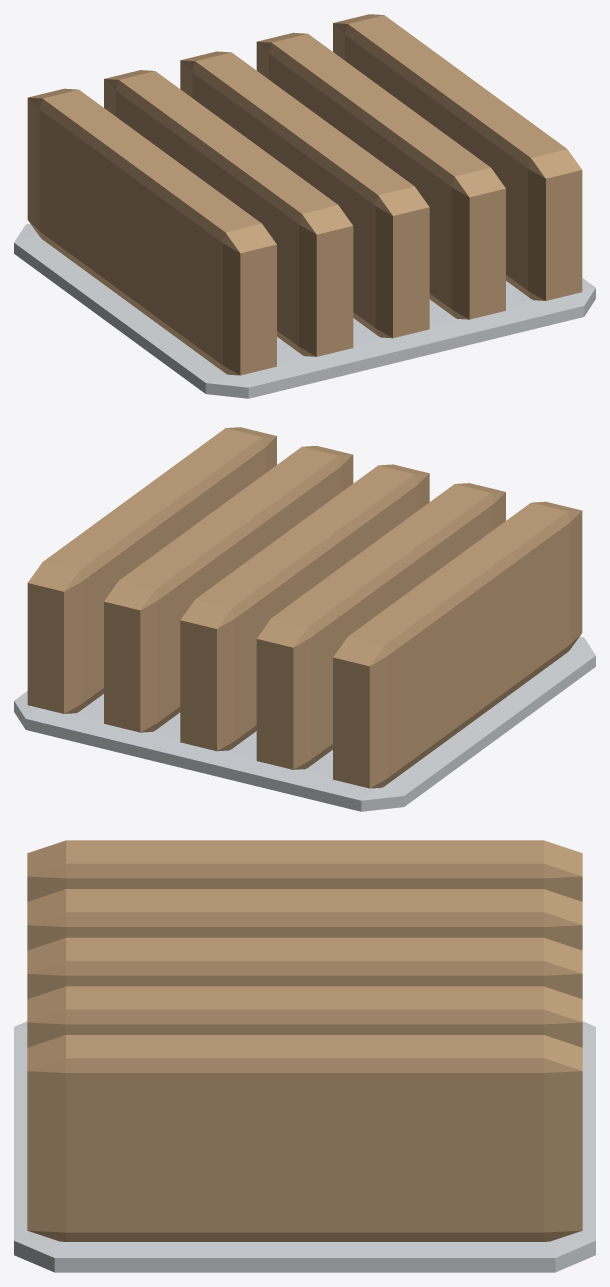
The model's file is b01_square_four_stool_table.glb.
The picture shows the model from 3 angles, top to bottom: view 1: azimuth 30°, elevation 25°; view 2: azimuth 150°, elevation 25°; view 3: azimuth 270°, elevation 25°; orthographic projection. The views are drawn at different scales.
Parts seen in each view (by area): view 1: b01_square_four_stool_table; view 2: b01_square_four_stool_table; view 3: b01_square_four_stool_table.
Part boxes in pixels (box(x1,y1,x2,y2)): b01_square_four_stool_table: box(14, 14, 595, 398); b01_square_four_stool_table: box(14, 427, 595, 811); b01_square_four_stool_table: box(14, 840, 595, 1272).
Size of the model in its own units: 2.17 by 0.815 by 2.15.
